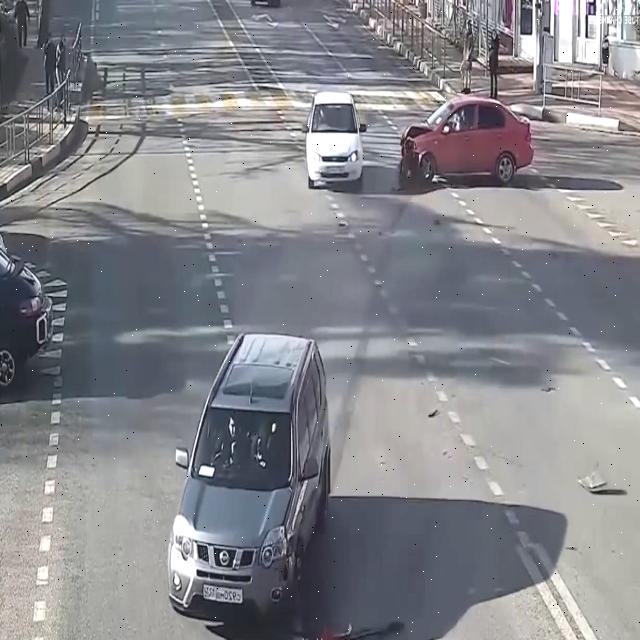accident: (149, 306, 407, 640), (384, 84, 540, 205)
